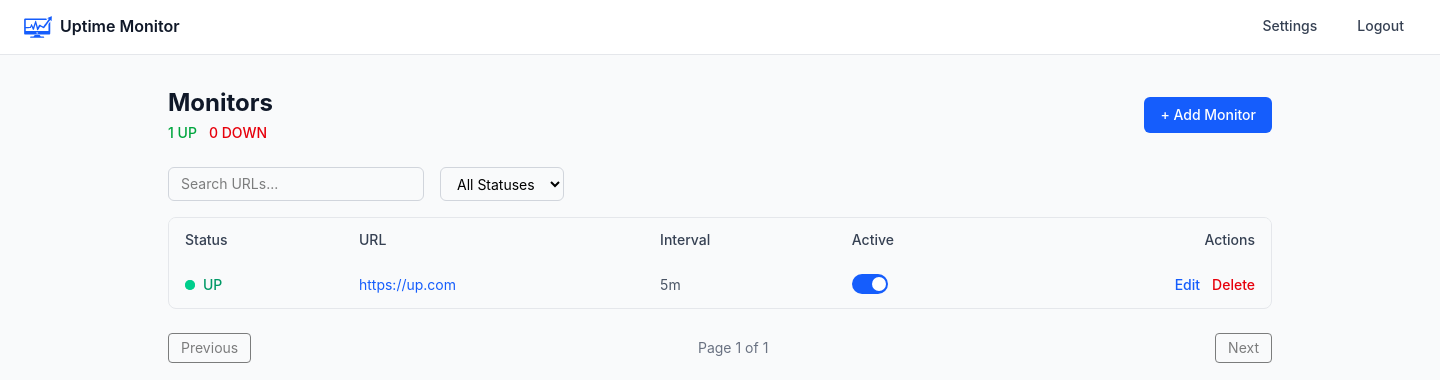
it: Dashboard › filters monitors by search query and status
The image size is (1440, 380).
Type "not-a-match" into the field with placeholder "Search URLs...".
click(296, 184); type("not-a-match")  # box [168, 167, 424, 201]
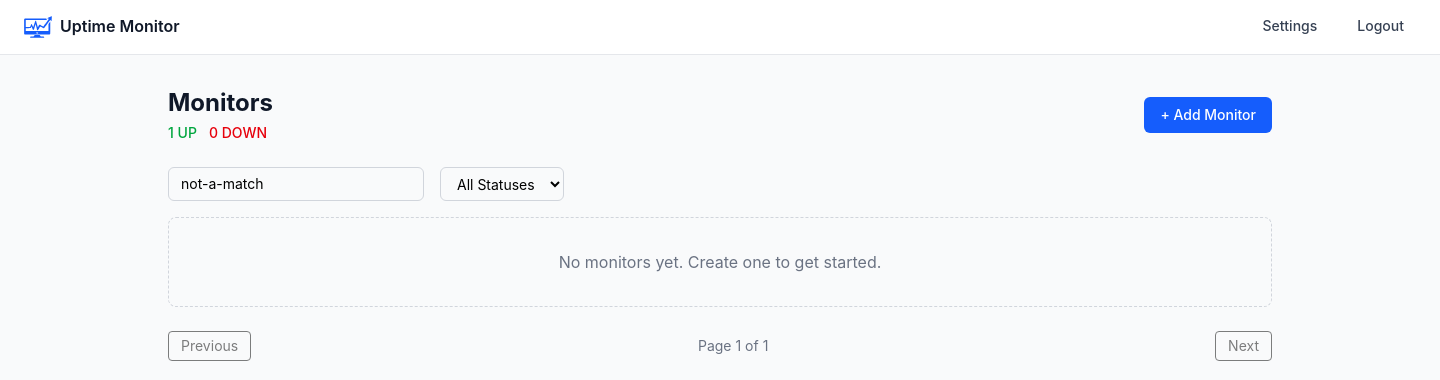
Expected: the button "https://up.com" is gone
Clear the field with placeholder "Search URLs..." at (296, 184), box [168, 167, 424, 201]
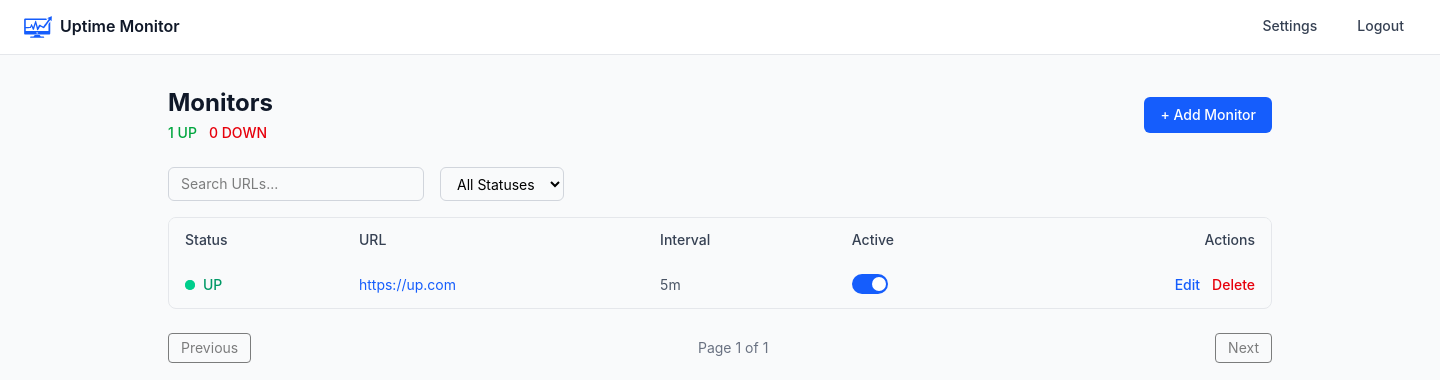
Select "Down Only" in the dropdown at (502, 184), box [440, 167, 564, 201]
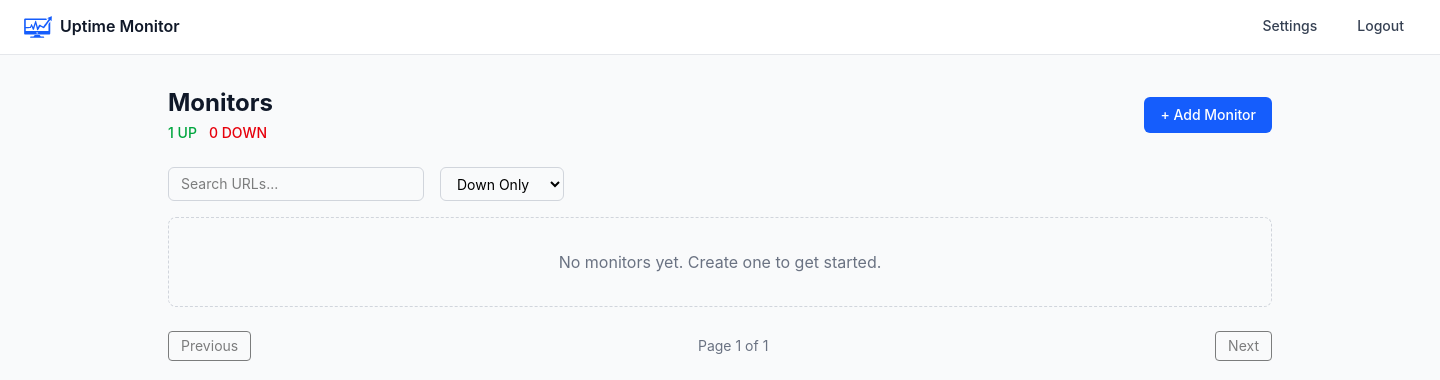
Expected: the button "https://up.com" is gone
